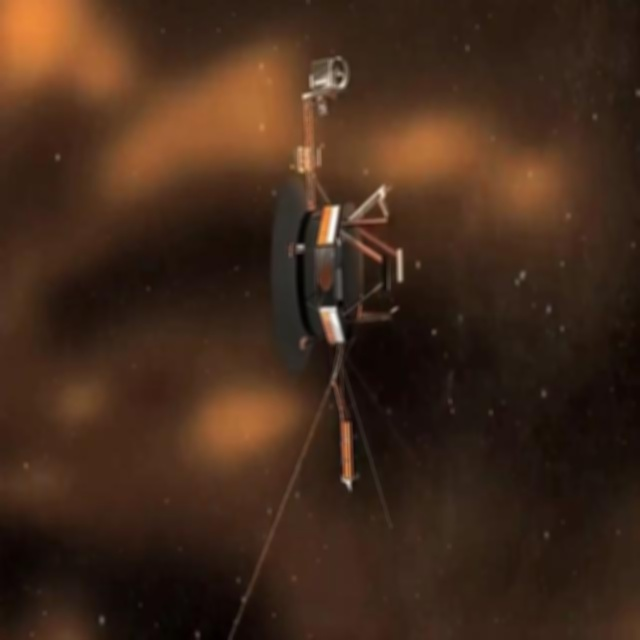satellite: (231, 0, 413, 640)
